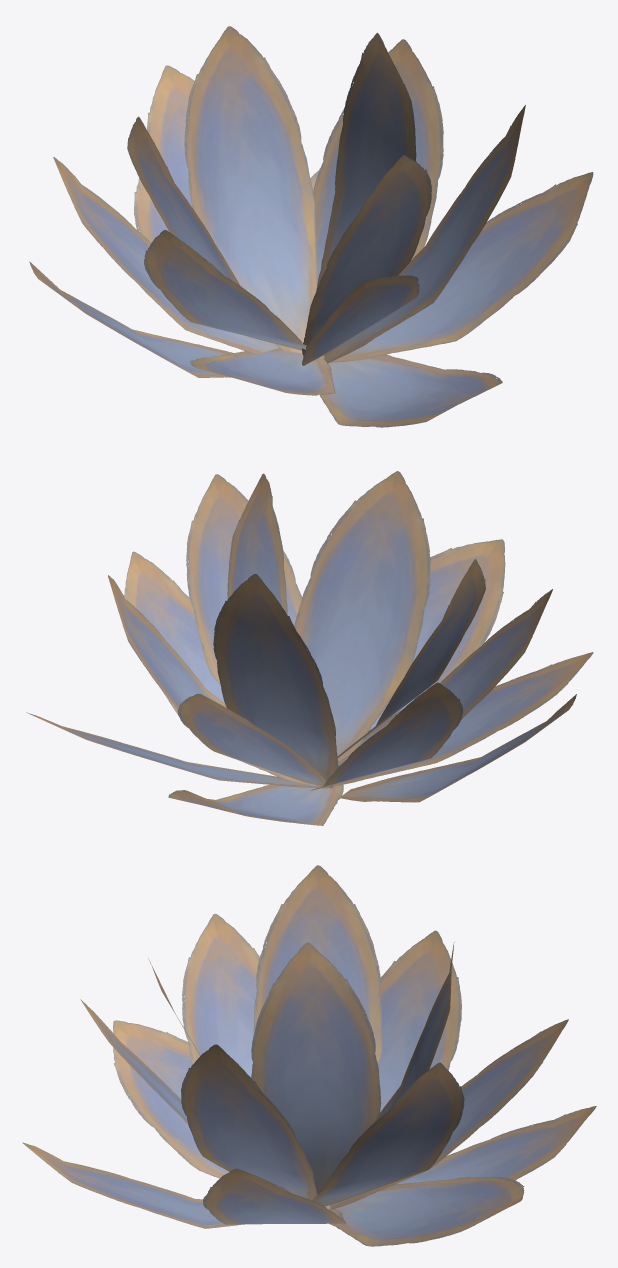
The model's file is gold flower big.fbx.
3 renders of one model, top to bottom at view 1: azimuth 30°, elevation 25°; view 2: azimuth 150°, elevation 25°; view 3: azimuth 270°, elevation 25°, orthographic. The views are drawn at different scales.
Parts seen in each view (by area): view 1: polySurface19, polySurface30, polySurface21, polySurface20, polySurface31, polySurface25, polySurface22, polySurface23, polySurface26, polySurface18, polySurface24, polySurface28 (+3 smaller); view 2: polySurface20, polySurface19, polySurface25, polySurface26, polySurface24, polySurface28, polySurface27, polySurface30, polySurface21, polySurface18, polySurface22, polySurface23 (+3 smaller); view 3: polySurface21, polySurface25, polySurface18, polySurface23, polySurface29, polySurface22, polySurface26, polySurface28, polySurface32, polySurface27, polySurface30, polySurface31 (+2 smaller).
Part boxes in pixels (x1,y1,x2,y2): polySurface19: (184, 26, 317, 353); polySurface30: (330, 172, 593, 362); polySurface21: (316, 32, 416, 290); polySurface20: (302, 155, 431, 355); polySurface31: (319, 354, 502, 427); polySurface25: (324, 105, 525, 363); polySurface22: (144, 230, 326, 354); polySurface23: (313, 39, 443, 279); polySurface26: (53, 157, 278, 354); polySurface18: (127, 116, 302, 342); polySurface24: (302, 275, 419, 365); polySurface28: (190, 348, 335, 395); polySurface20: (294, 471, 430, 761); polySurface19: (213, 574, 338, 780); polySurface25: (186, 474, 302, 685); polySurface26: (310, 682, 463, 790); polySurface24: (370, 539, 505, 729); polySurface28: (315, 652, 593, 788); polySurface27: (177, 694, 332, 788); polySurface30: (123, 551, 224, 714); polySurface21: (227, 473, 287, 615); polySurface18: (337, 559, 485, 758); polySurface22: (338, 589, 552, 766); polySurface23: (108, 575, 305, 783); polySurface21: (251, 942, 381, 1194); polySurface25: (181, 1044, 319, 1203); polySurface18: (253, 865, 382, 1066); polySurface23: (312, 1062, 464, 1206); polySurface29: (329, 1176, 524, 1246); polySurface22: (182, 914, 259, 1077); polySurface26: (378, 930, 461, 1112); polySurface28: (113, 1020, 229, 1178); polySurface32: (325, 1106, 596, 1209); polySurface27: (330, 1019, 568, 1209); polySurface30: (203, 1168, 345, 1224); polySurface31: (22, 1142, 244, 1228).
Size of the model in its own units: 7.36 by 4.41 by 7.55.
